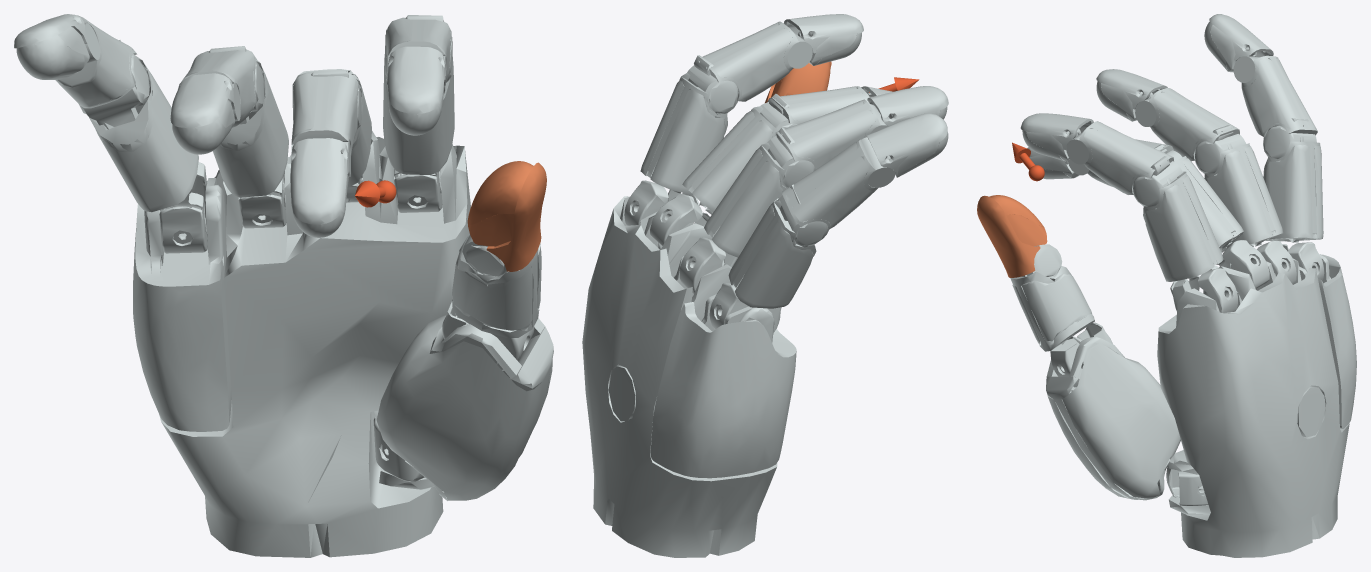
File: notation_init.glb
3 views of the same model, side by side, from view 1: azimuth 30°, elevation 25°; view 2: azimuth 150°, elevation 25°; view 3: azimuth 270°, elevation 25° (orthographic). The views are drawn at different scales.
Visible parts, largest first — view 1: mesh0; view 2: mesh0; view 3: mesh0.
Part boxes in pixels (x1=…): mesh0: x1=14, y1=14, x2=553, y2=557; mesh0: x1=582, y1=14, x2=948, y2=557; mesh0: x1=977, y1=14, x2=1356, y2=557.
Size of the model in its own units: 0.1383 by 0.1693 by 0.1405.
